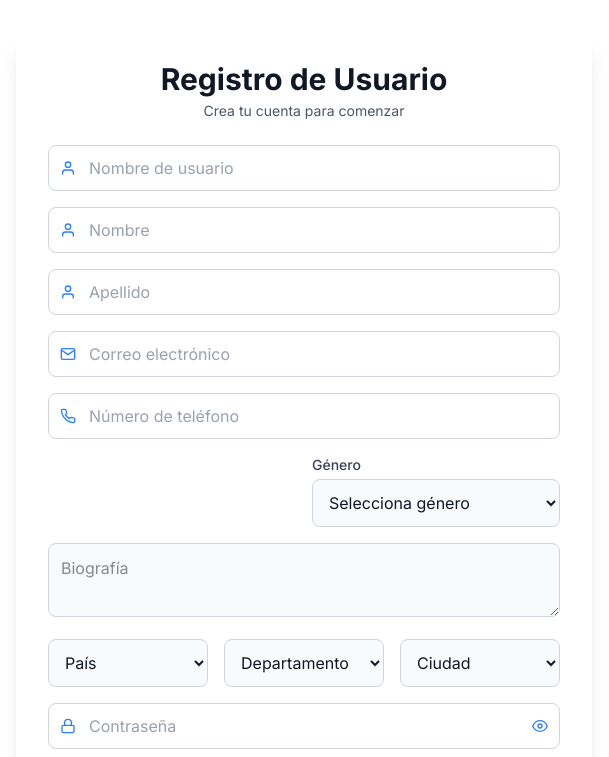
it: RegisterForm › debe mostrar error si las contraseñas no coinciden
Expected: the heading "Registro de Usuario" is shown, x1=161 y1=61 x2=447 y2=97
In the password field with placeholder "Contraseña": (304, 726) x1=48 y1=703 x2=560 y2=749, type "Password123!"
(page scrolled)
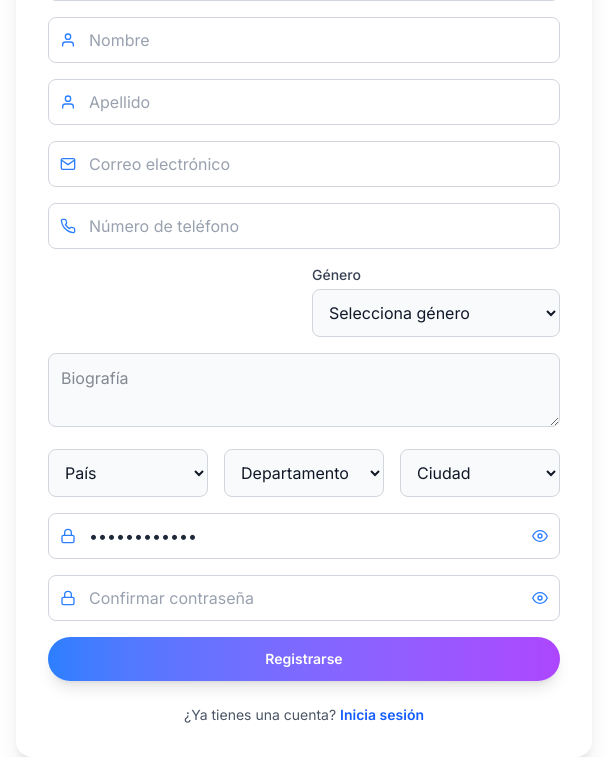
In the password field with placeholder "Confirmar contraseña": (304, 598) x1=48 y1=575 x2=560 y2=621, type "NoCoinciden123!"
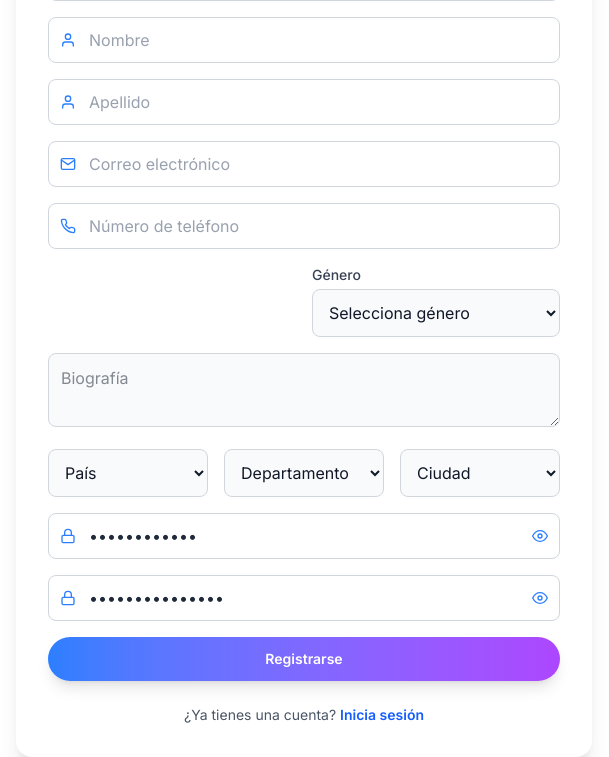
Click the button "Registrarse": (304, 659) x1=48 y1=637 x2=560 y2=681
(page scrolled)
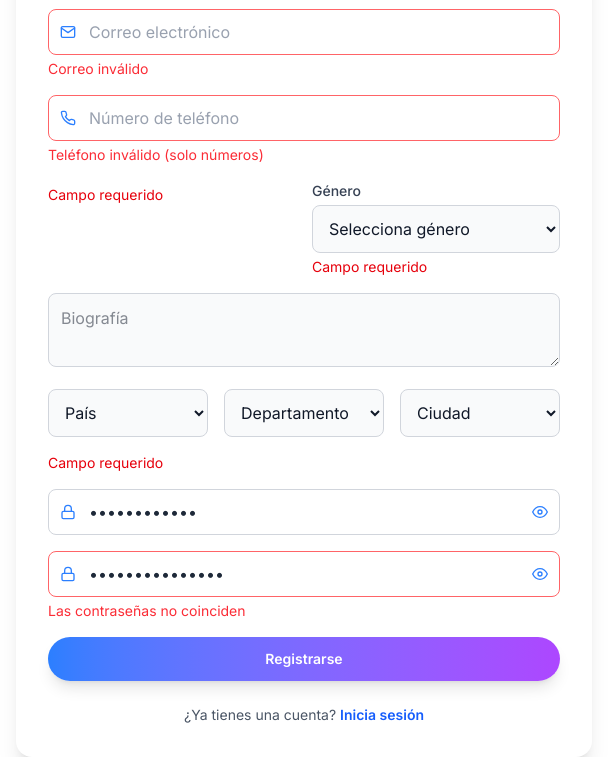
Now the text "Las contraseñas no coinciden" is shown, box x1=48 y1=602 x2=246 y2=619
